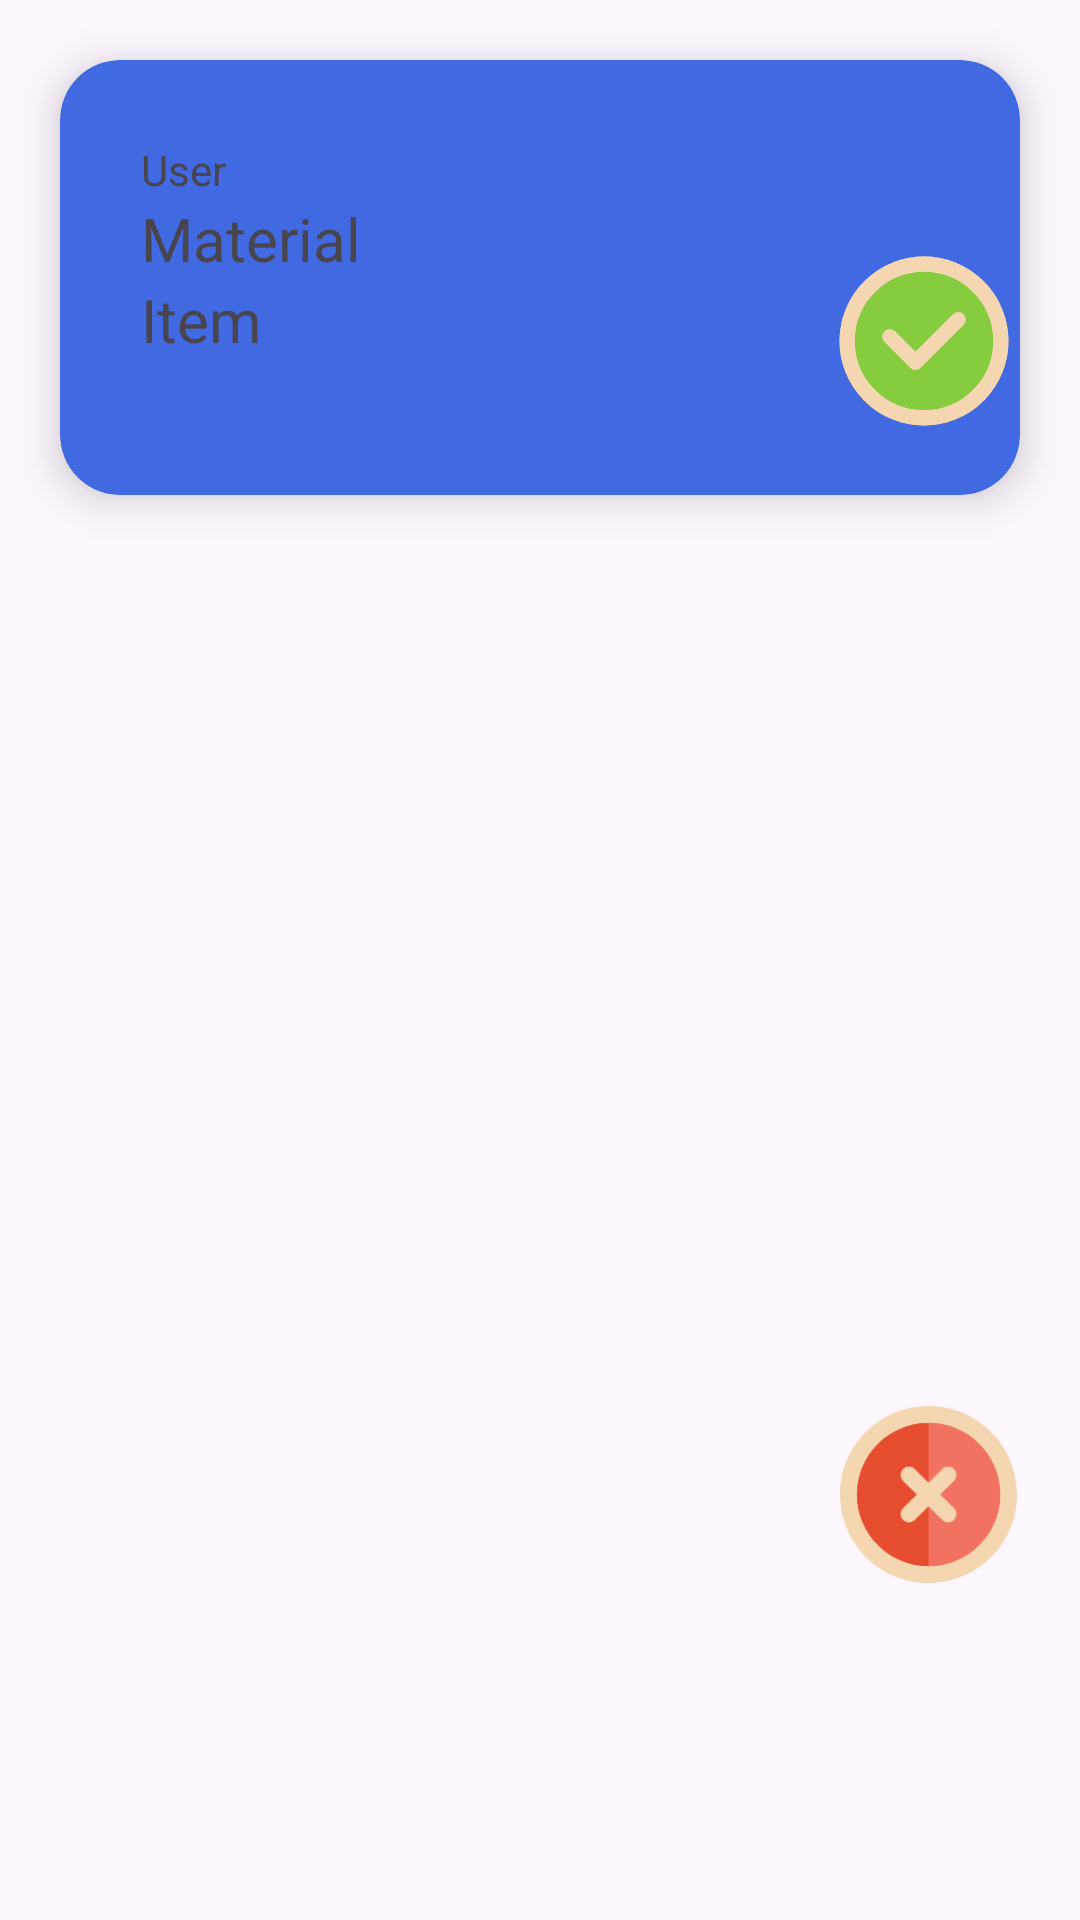

Icon bounding boxes for this 1080×1920 phone screenshot, format (x1, y1, x2, y2):
check mark circle: (839, 256, 1009, 426)
close: (840, 1406, 1017, 1583)
